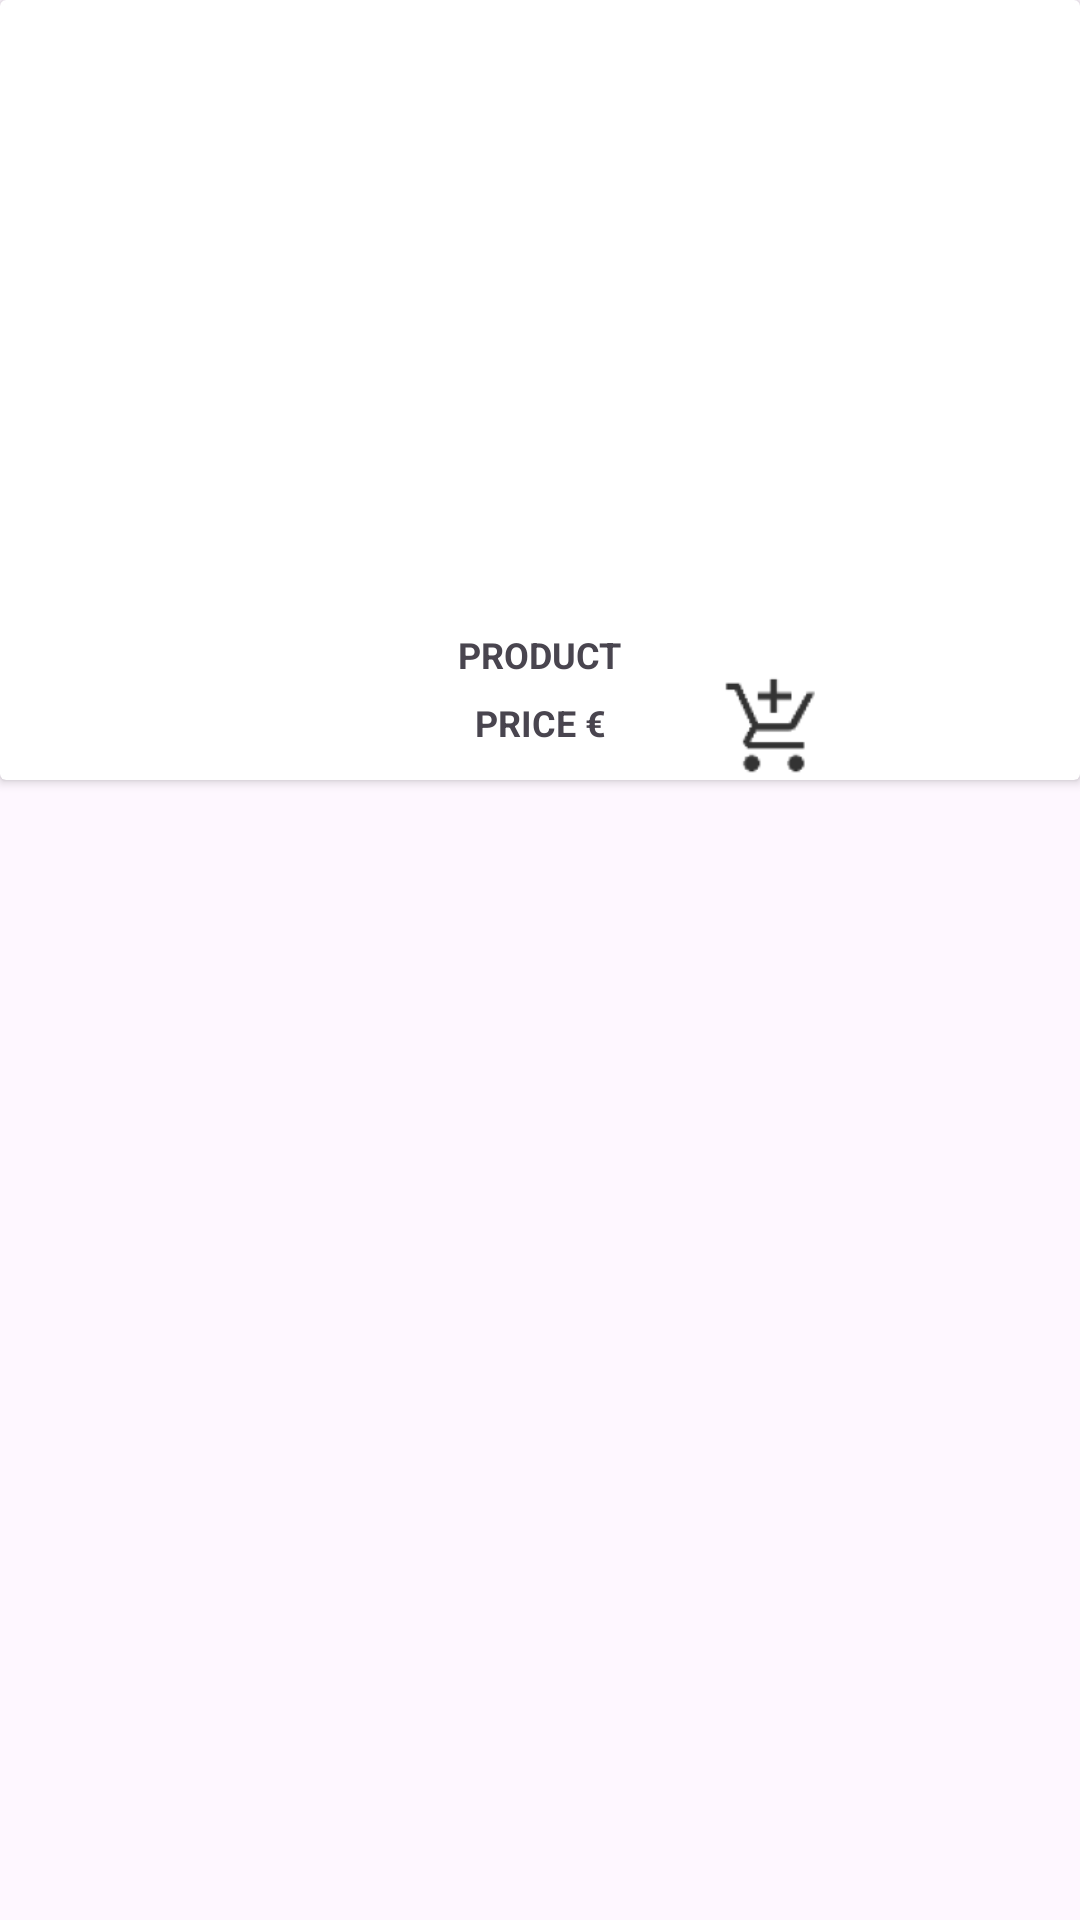

Icon bounding boxes for this 1080px×1920px phone screenshot, format (x1, y1, x2, y2):
add cart: (725, 679, 815, 773)
